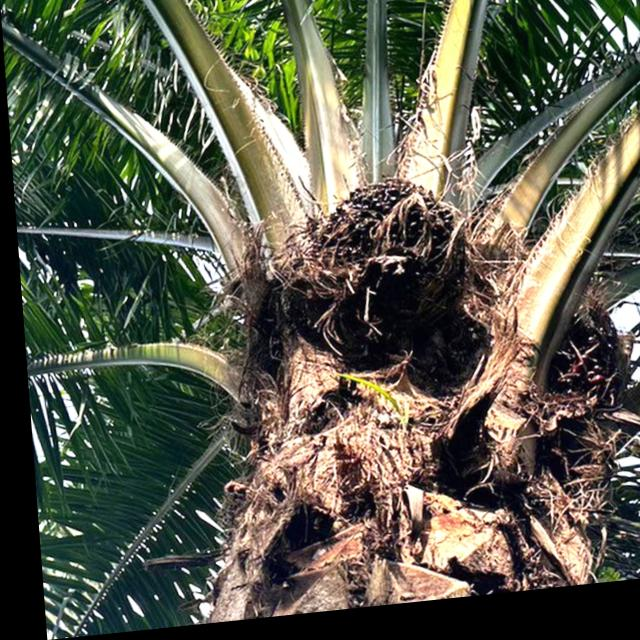unripe: (277, 177, 481, 382)
